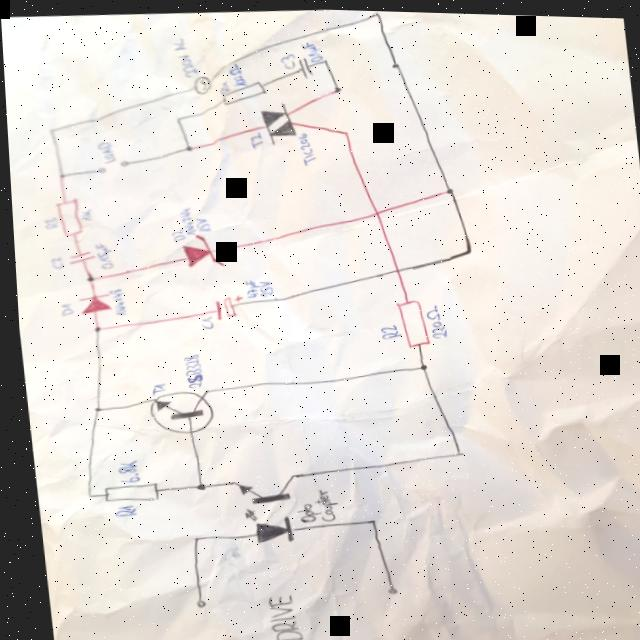capacitor: (209, 292, 242, 320), (62, 247, 93, 265), (296, 54, 314, 78)
crossover: (370, 206, 379, 215), (390, 264, 399, 271)
diode: (176, 231, 222, 268), (72, 291, 107, 316)
junction: (440, 184, 452, 193), (188, 481, 200, 490), (461, 244, 471, 253), (449, 445, 459, 454), (361, 514, 371, 523), (81, 275, 92, 282), (414, 361, 424, 368), (46, 127, 54, 134), (89, 325, 97, 332), (332, 84, 340, 91), (182, 144, 191, 150), (54, 173, 63, 179), (185, 534, 193, 540), (88, 406, 96, 412), (173, 115, 180, 121), (321, 56, 328, 62), (372, 9, 380, 14), (339, 128, 347, 133), (79, 493, 86, 498)
resistor: (390, 295, 427, 347), (94, 480, 154, 503), (218, 78, 267, 105), (51, 196, 81, 238)
source: (190, 73, 211, 94)
terminal: (187, 597, 200, 608), (378, 584, 390, 593), (117, 158, 127, 167), (93, 166, 103, 173)
text: (257, 590, 297, 640), (171, 35, 197, 77), (305, 486, 333, 521), (419, 301, 444, 336), (176, 351, 199, 389), (294, 130, 315, 165), (109, 457, 135, 483), (90, 241, 110, 270), (104, 287, 124, 316), (93, 140, 115, 165), (289, 501, 315, 522), (176, 205, 194, 234), (226, 60, 246, 86), (299, 39, 322, 61), (375, 321, 399, 338), (239, 277, 257, 298), (105, 502, 130, 517), (253, 277, 271, 296), (246, 129, 263, 148), (52, 300, 71, 317), (278, 51, 296, 68), (44, 254, 62, 271), (192, 215, 210, 232), (38, 215, 57, 231), (144, 380, 163, 396), (74, 208, 92, 223), (166, 227, 183, 242), (194, 314, 210, 329), (215, 79, 229, 94)
transistor: (142, 387, 211, 435)
